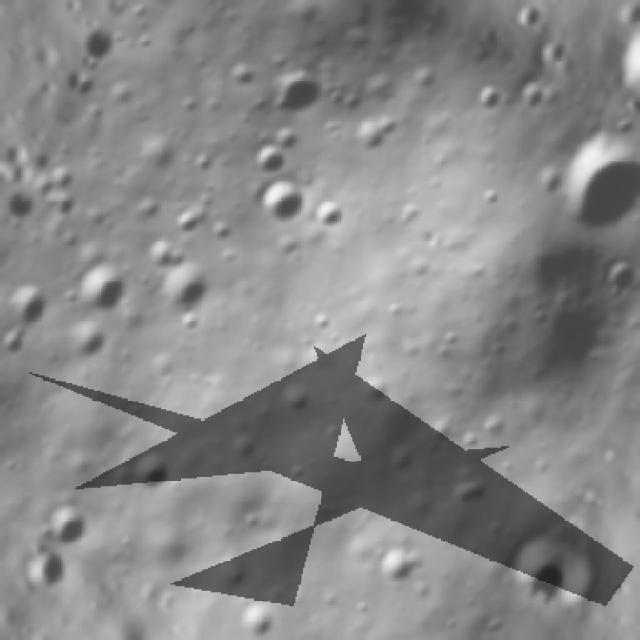crater: (537, 117, 640, 257), (491, 523, 567, 609), (255, 58, 332, 138), (65, 254, 141, 328), (152, 252, 226, 328), (28, 487, 102, 558), (366, 530, 432, 601), (250, 168, 316, 237), (51, 311, 120, 375), (122, 223, 193, 285), (112, 441, 178, 507), (336, 108, 396, 164), (0, 280, 55, 337), (240, 134, 295, 188), (307, 188, 361, 241), (230, 592, 282, 640), (594, 251, 640, 304), (44, 184, 93, 231), (9, 186, 49, 237), (89, 24, 125, 70)
